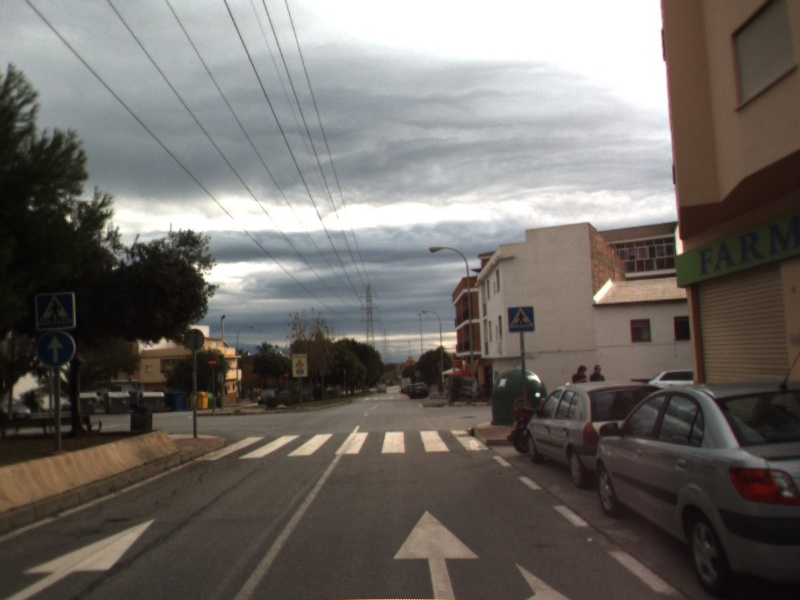STRAIGHT: (1, 516, 158, 600), (391, 508, 482, 600)
